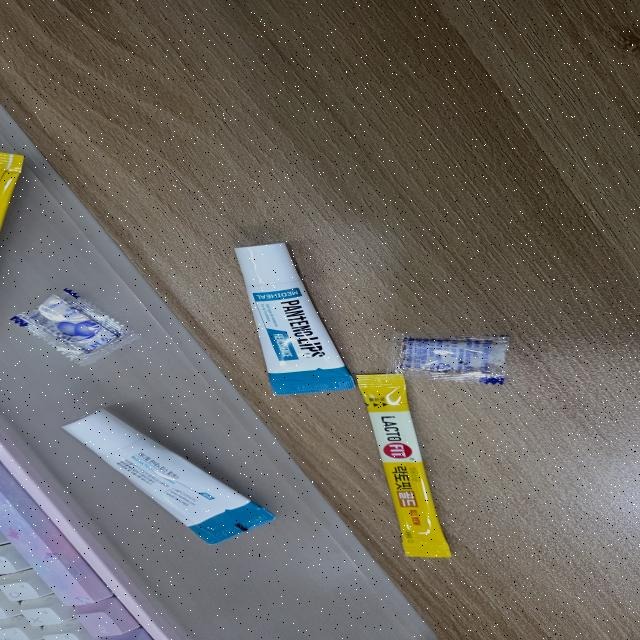lacto: (350, 373, 452, 558), (0, 140, 24, 259)
lib: (56, 408, 274, 545), (232, 242, 356, 398)
salt: (8, 287, 141, 367), (388, 332, 509, 385)
